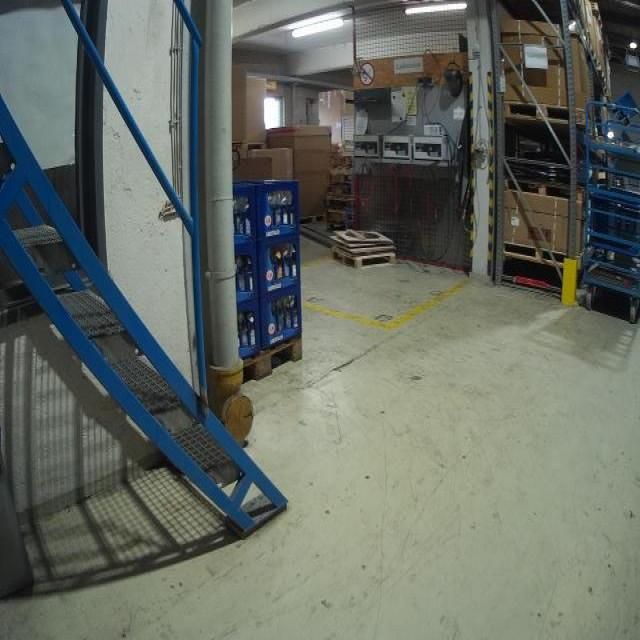pallet: (502, 237, 586, 273), (500, 99, 588, 129), (503, 176, 585, 204), (330, 247, 397, 270), (296, 211, 327, 229)
